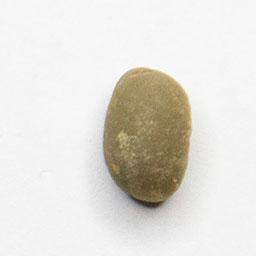peaberry: (98, 63, 197, 208)
